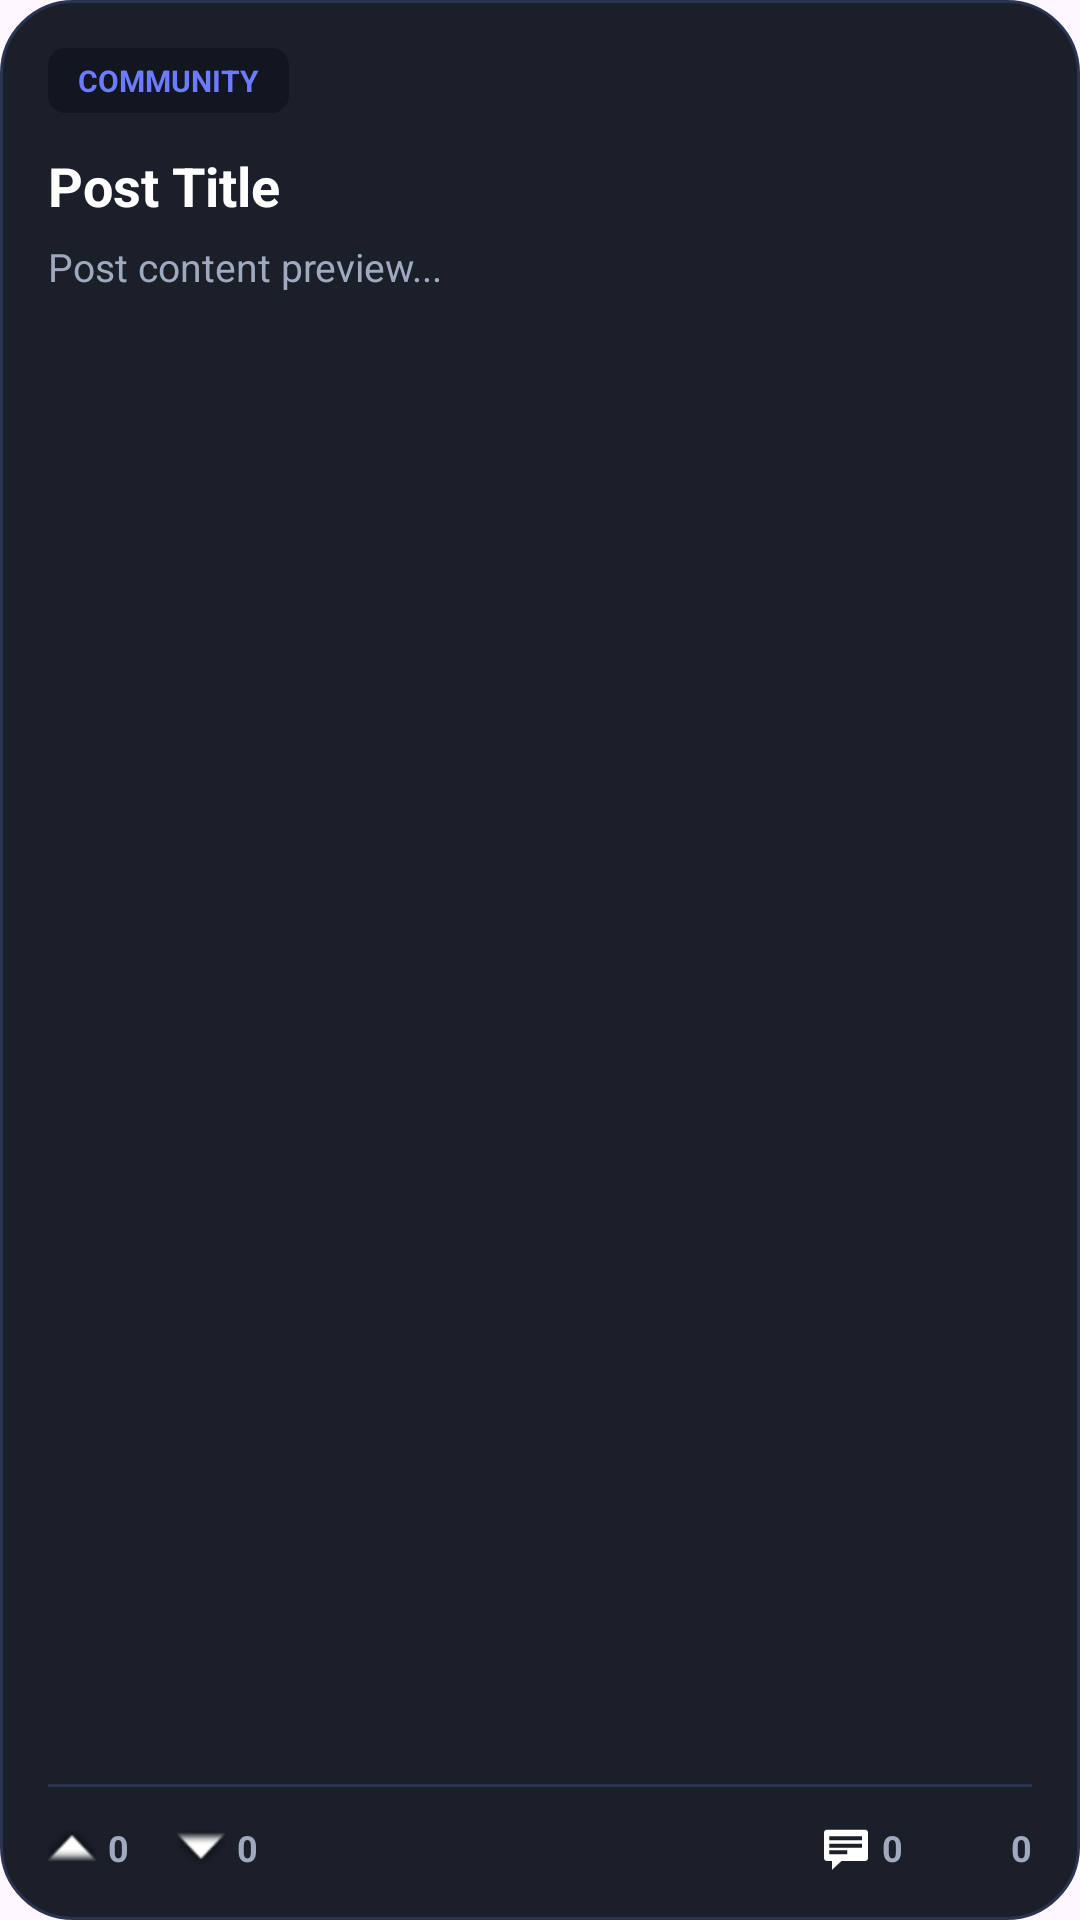

Where icons sit on this 1080px x 1920px app screen, as bbox=(x1, y1, x2, y2):
Comments: bbox=(824, 1829, 868, 1870)
Downvotes: bbox=(177, 1833, 224, 1859)
Upvotes: bbox=(48, 1835, 96, 1861)
